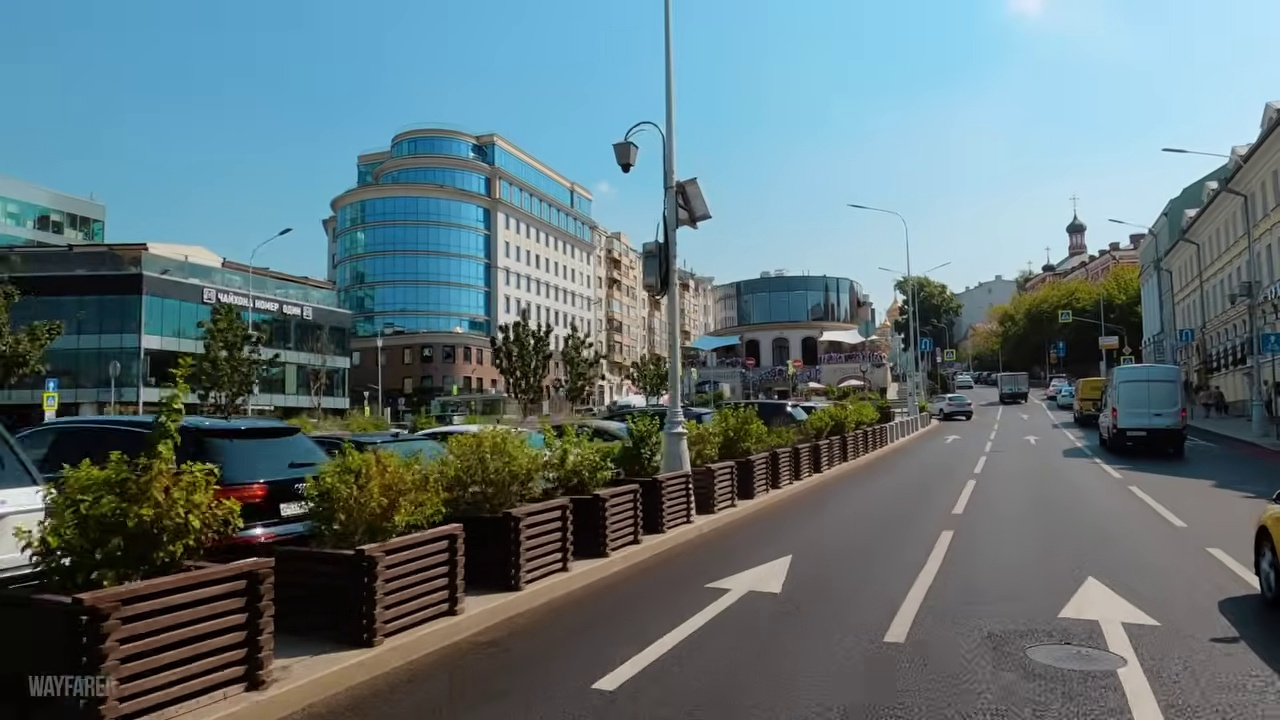apagada: (846, 197, 868, 216)
